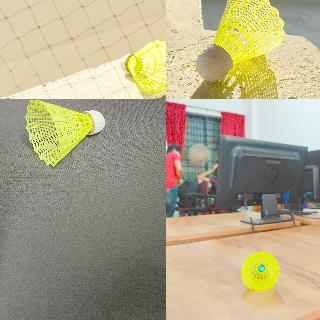shuttlecock: (196, 0, 285, 82), (25, 100, 105, 167), (119, 40, 165, 93), (240, 251, 280, 291)
